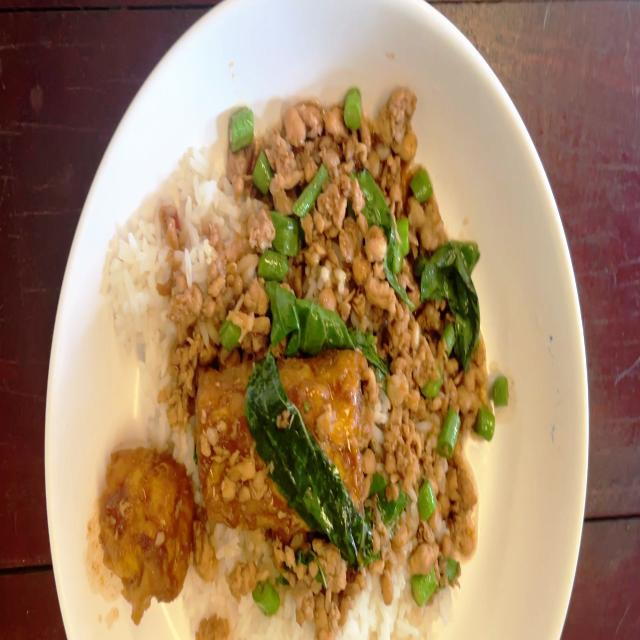fried_tofo: (199, 355, 363, 520), (101, 449, 190, 594)
minced_pork: (173, 107, 484, 336), (366, 335, 481, 565), (208, 531, 362, 613)
rice: (111, 195, 157, 345), (180, 136, 233, 248), (359, 584, 437, 640)
stir_fried_basil: (99, 94, 501, 640)
